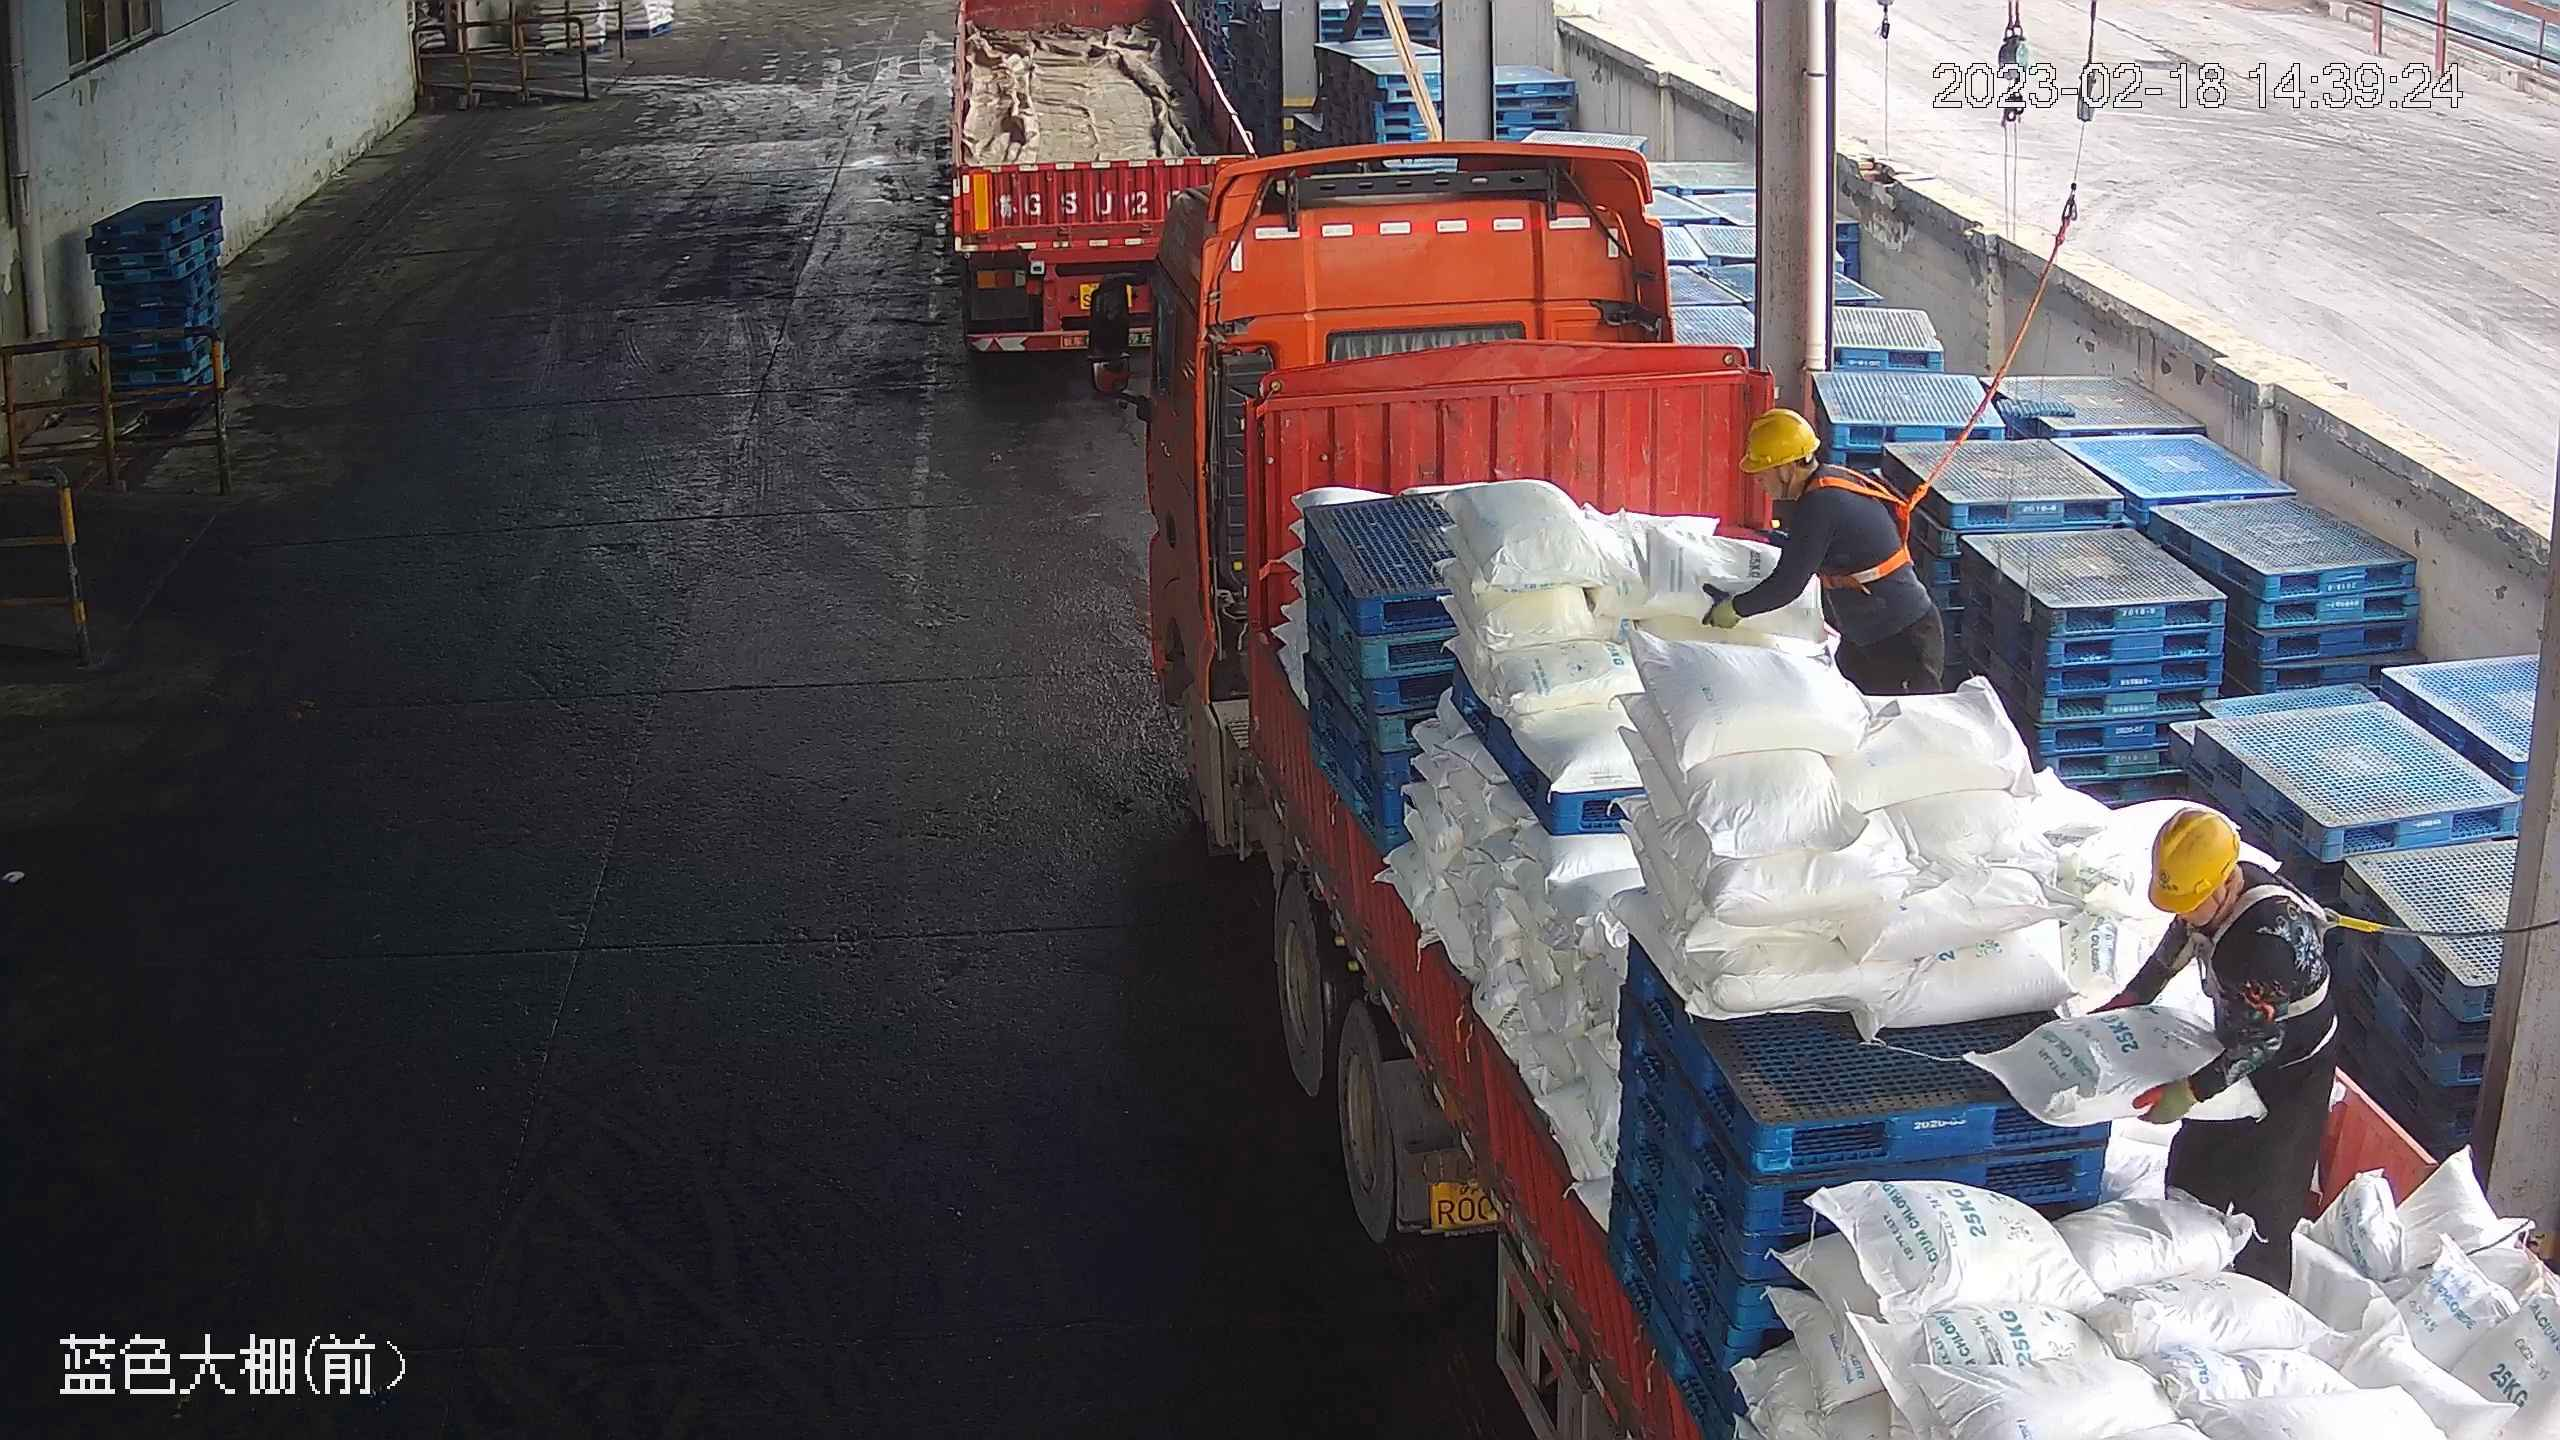belt: (2193, 876, 2350, 1029), (1806, 462, 1925, 594)
head: (2142, 803, 2320, 973), (1739, 404, 1899, 534)
helmet: (2146, 803, 2241, 914), (1736, 404, 1823, 472)
people: (2098, 804, 2342, 1294), (1701, 403, 1952, 705)
truck: (1136, 160, 2553, 1437), (946, 4, 1262, 360)
